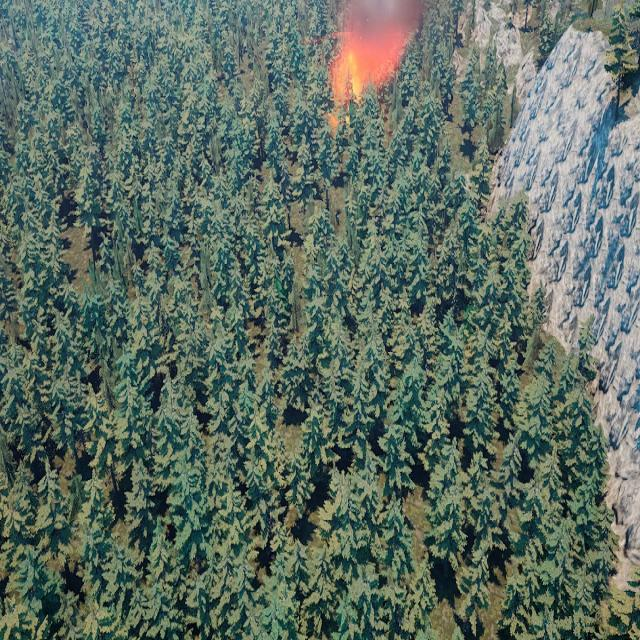fire: (330, 41, 394, 116)
smoke: (329, 0, 431, 61)
